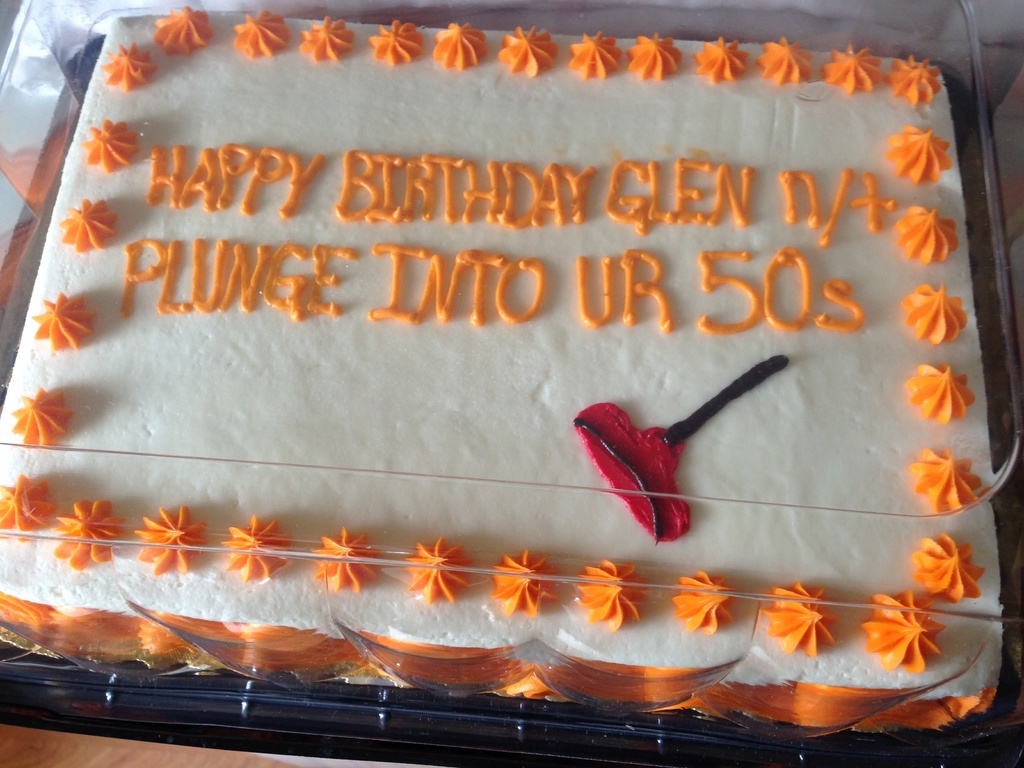cake: (0, 4, 1000, 733)
